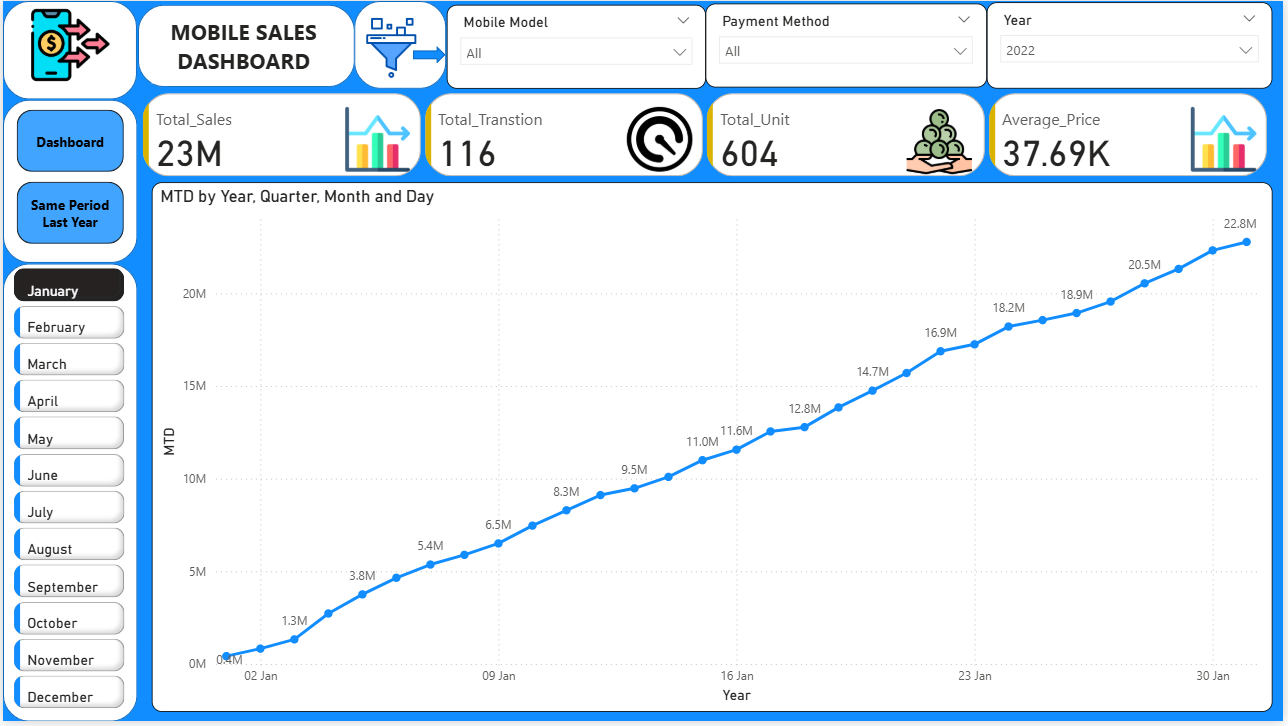

What the dashboard file says about the page in this screenshot:
{"tool":"powerbi","page":{"name":"MTD Report","canvas":[1280,720],"ordinal":1},"visuals":[{"type":"shape","box":[0,0,134.5,98.8],"z":0},{"type":"image","box":[13.7,0,107,87.8],"z":1000},{"type":"shape","box":[0,98.8,134.5,163.3],"z":2000},{"type":"cardVisual","fields":{"Data":["Sales_Data.Total_Sales","Sales_Data.Total_Transtion","Sales_Data.Total_Unit","Sales_Data.Average_Price"]},"box":[134.5,87.8,1134.8,93.3],"z":3000},{"type":"slicer","fields":{"Values":["Sales_Data.Mobile Model"]},"box":[443.2,4.1,259.3,83.7],"z":4000},{"type":"shape","box":[134.5,4.1,216.8,82.3],"z":5000},{"type":"slicer","fields":{"Values":["Sales_Data.Payment Method"]},"box":[702.6,2.7,281.3,83.7],"z":6000},{"type":"slicer","fields":{"Values":["Custom_Calender.Date.Variation.Date Hierarchy.Year"]},"box":[983.9,1.4,285.4,86.4],"z":7000},{"type":"shape","box":[351.3,0,91.9,87.8],"z":8000},{"type":"image","box":[348.5,11,79.6,71.4],"z":9000},{"type":"shape","box":[410.3,45.3,32.9,17.8],"z":10000},{"type":"textbox","box":[148.2,11,183.9,71.4],"z":11000},{"type":"lineChart","fields":{"Y":["Sales_Data.MTD"],"Category":["Custom_Calender.Date.Variation.Date Hierarchy.Year","Custom_Calender.Date.Variation.Date Hierarchy.Quarter","Custom_Calender.Date.Variation.Date Hierarchy.Month","Custom_Calender.Date.Variation.Date Hierarchy.Day"]},"box":[148.2,181.1,1121.1,529.7],"z":12000},{"type":"shape","box":[0,262.1,134.5,458.3],"z":13000},{"type":"advancedSlicerVisual","fields":{"Values":["Custom_Calender.Date.Variation.Date Hierarchy.Month"]},"box":[6.9,262.1,120.8,458.3],"z":14000},{"type":"pageNavigator","box":[13.7,108.4,107,134.5],"z":15000}]}

Visuals, with their boxes in screenshot pixels (x1, y1, x2, y2), scaled from the page's 1280x720 canvas onto the 1288x726 screenshot:
shape: <box>0,0,135,100</box>
image: <box>14,0,121,89</box>
shape: <box>0,100,135,264</box>
cardVisual - Sales_Data.Total_Sales x Sales_Data.Total_Transtion: <box>135,89,1277,183</box>
slicer - Sales_Data.Mobile Model: <box>446,4,707,89</box>
shape: <box>135,4,353,87</box>
slicer - Sales_Data.Payment Method: <box>707,3,990,87</box>
slicer - Custom_Calender.Date.Variation.Date Hierarchy.Year: <box>990,1,1277,89</box>
shape: <box>353,0,446,89</box>
image: <box>351,11,431,83</box>
shape: <box>413,46,446,64</box>
textbox: <box>149,11,334,83</box>
lineChart - Sales_Data.MTD x Custom_Calender.Date.Variation.Date Hierarchy.Year: <box>149,183,1277,717</box>
shape: <box>0,264,135,725</box>
advancedSlicerVisual - Custom_Calender.Date.Variation.Date Hierarchy.Month: <box>7,264,128,725</box>
pageNavigator: <box>14,109,121,245</box>
